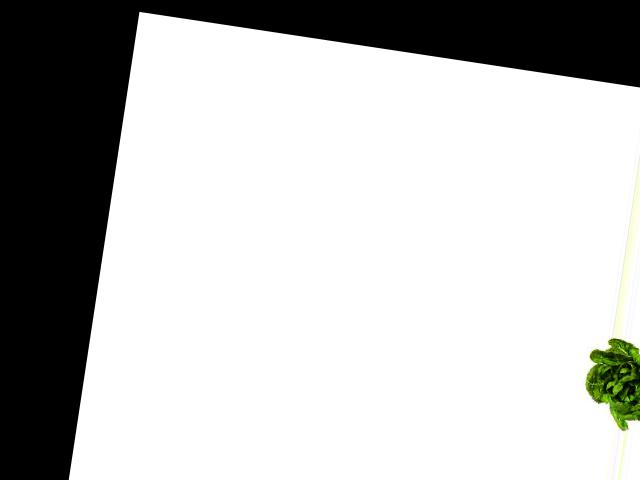lettuce: (577, 337, 640, 440)
